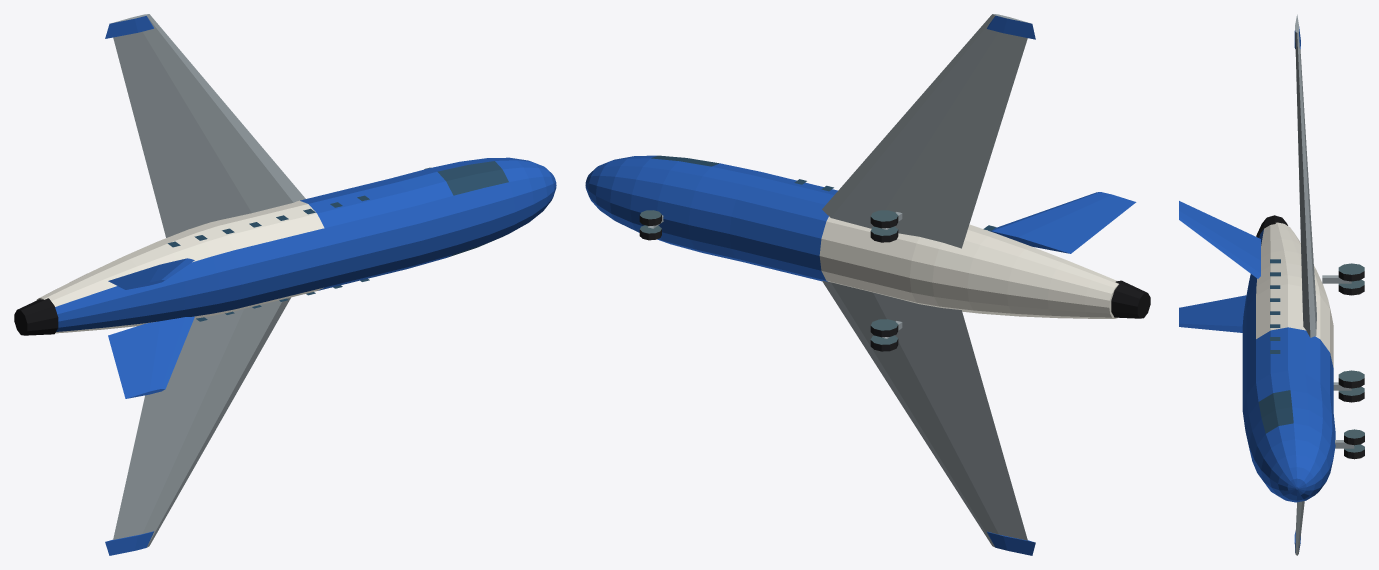
The picture shows the model from 3 angles, left to right: view 1: azimuth 30°, elevation 25°; view 2: azimuth 150°, elevation 25°; view 3: azimuth 270°, elevation 25°; orthographic projection.
Visible parts, largest first — view 1: default_fuselage, default_wing1, default_wing-1, default_fin-11, default_nozzle0.0, default_fin11, default_wing_tip-11, default_wing_tip11; view 2: default_fuselage, default_wing1, default_wing-1, default_fin11, default_nozzle0.0, default_wing_tip11; view 3: default_fuselage, default_wing1, default_fin11, default_fin-11, default_main1_wheel0.17, default_main-1_wheel0.17, default_windows1, default_wing-1, default_main-1_wheel-0.17, default_main1_wheel-0.17, default_nose_gear_wheel0.17, default_nose_gear_wheel-0.17.
Part boxes in pixels (<box>): default_fuselage: <box>36,157,556,333</box>; default_wing1: <box>110,14,305,237</box>; default_wing-1: <box>113,297,290,547</box>; default_fin-11: <box>108,316,194,398</box>; default_nozzle0.0: <box>14,298,58,335</box>; default_fin11: <box>108,258,194,289</box>; default_wing_tip-11: <box>105,531,153,555</box>; default_wing_tip11: <box>105,16,153,38</box>; default_fuselage: <box>585,155,1118,318</box>; default_wing1: <box>822,14,1029,248</box>; default_wing-1: <box>822,281,1027,547</box>; default_fin11: <box>988,192,1136,253</box>; default_nozzle0.0: <box>1111,280,1150,318</box>; default_wing_tip11: <box>987,15,1035,39</box>; default_fuselage: <box>1242,222,1335,502</box>; default_wing1: <box>1295,14,1316,337</box>; default_fin11: <box>1179,201,1260,278</box>; default_fin-11: <box>1179,295,1246,332</box>; default_main1_wheel0.17: <box>1338,263,1364,281</box>; default_main-1_wheel0.17: <box>1338,370,1364,388</box>; default_windows1: <box>1270,259,1280,353</box>; default_wing-1: <box>1295,501,1304,555</box>; default_main-1_wheel-0.17: <box>1338,386,1364,402</box>; default_main1_wheel-0.17: <box>1338,279,1364,295</box>; default_nose_gear_wheel0.17: <box>1344,429,1364,445</box>; default_nose_gear_wheel-0.17: <box>1344,444,1364,459</box>.
Size of the model in its own units: 13.6 by 12.7 by 4.09.
